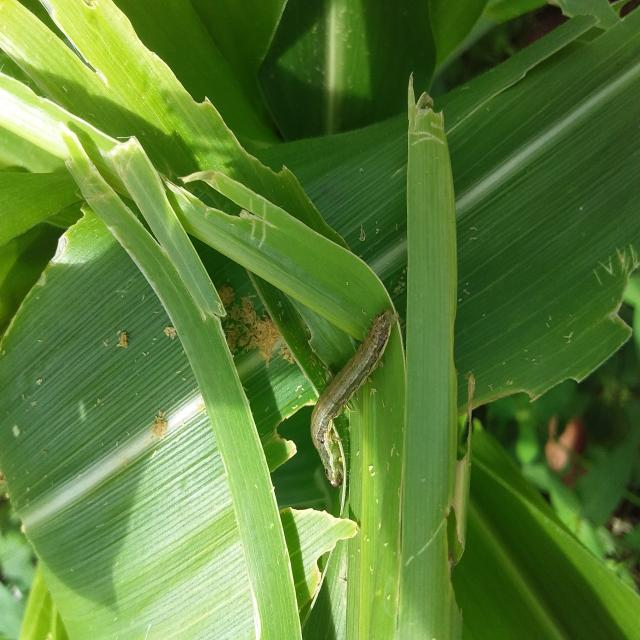yellow-stem-borer-larva: (297, 308, 401, 493)
